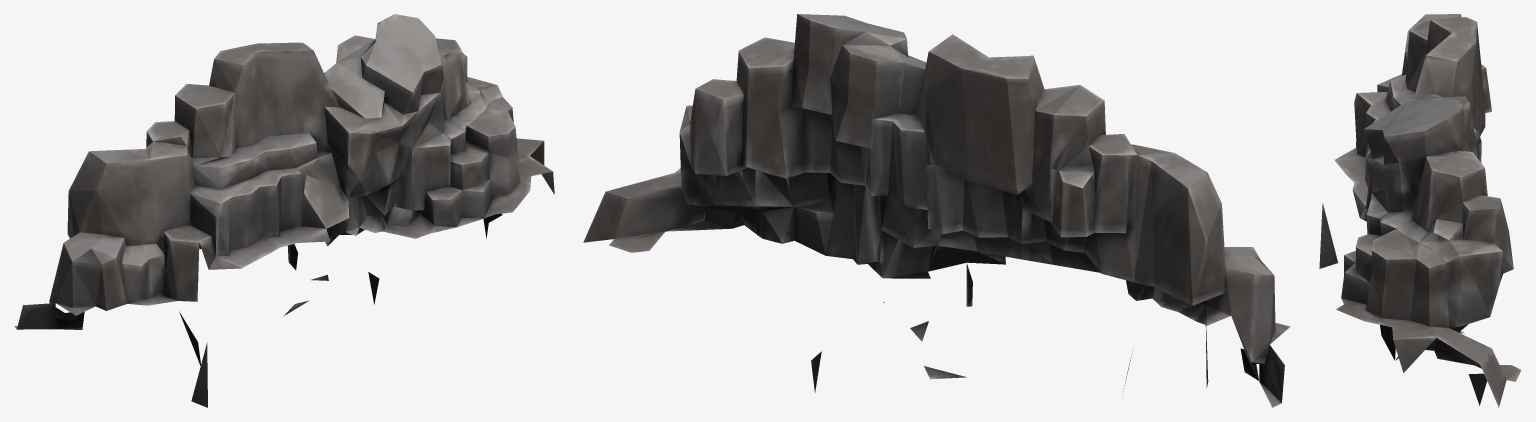
File: Cliff.fbx
3 views of the same model, side by side, from view 1: azimuth 30°, elevation 25°; view 2: azimuth 150°, elevation 25°; view 3: azimuth 270°, elevation 25° (orthographic). The views are drawn at different scales.
Visible parts, largest first — view 1: Cliff2_collision_1; view 2: Cliff2_collision_1; view 3: Cliff2_collision_1.
Part boxes in pixels (box(x1,y1,x2,y2)): Cliff2_collision_1: box(14, 14, 554, 407); Cliff2_collision_1: box(583, 14, 1290, 407); Cliff2_collision_1: box(1319, 14, 1521, 407).
Size of the model in its own units: 4109 by 2115 by 1258.
Materials: 1 (1 with a texture image).
